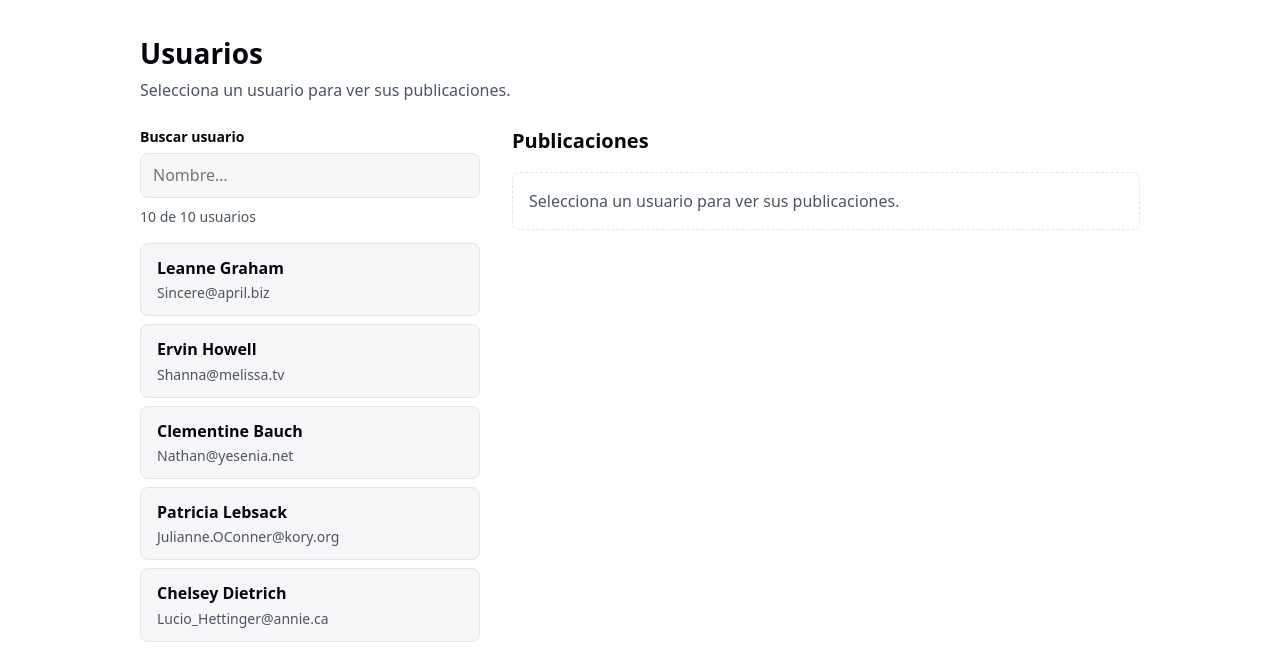
Test case: publicaciones por usuario › cambia de publicaciones al elegir otro usuario
The width and height of the screenshot is (1280, 650).
What coordinates should you click on to do the following:
click the button "Leanne Graham Sincere@april.biz"
I would click on:
 (220, 268)
Its box is [140,243,480,316].
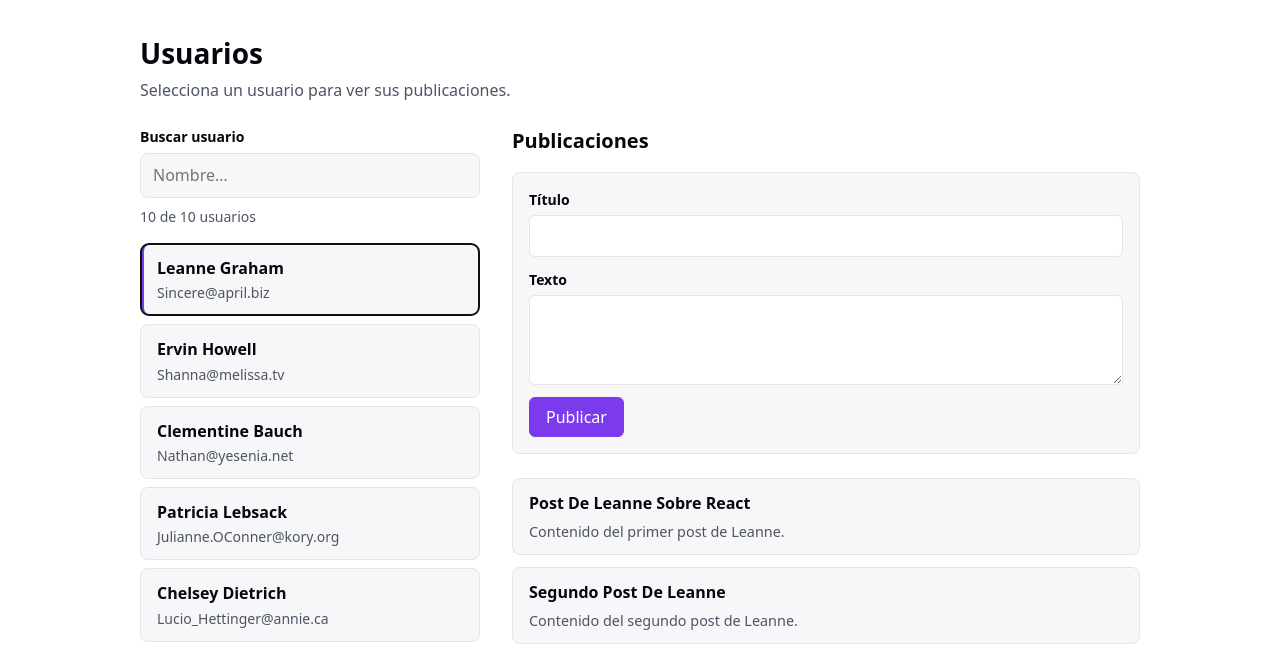
Expected: the heading "Post de Leanne sobre React" is shown, [529,492,750,514]
What coordinates should you click on to do the following:
click the button "Ervin Howell Shanna@melissa.tv"
I would click on:
 (207, 349)
Its box is [140,324,480,398].
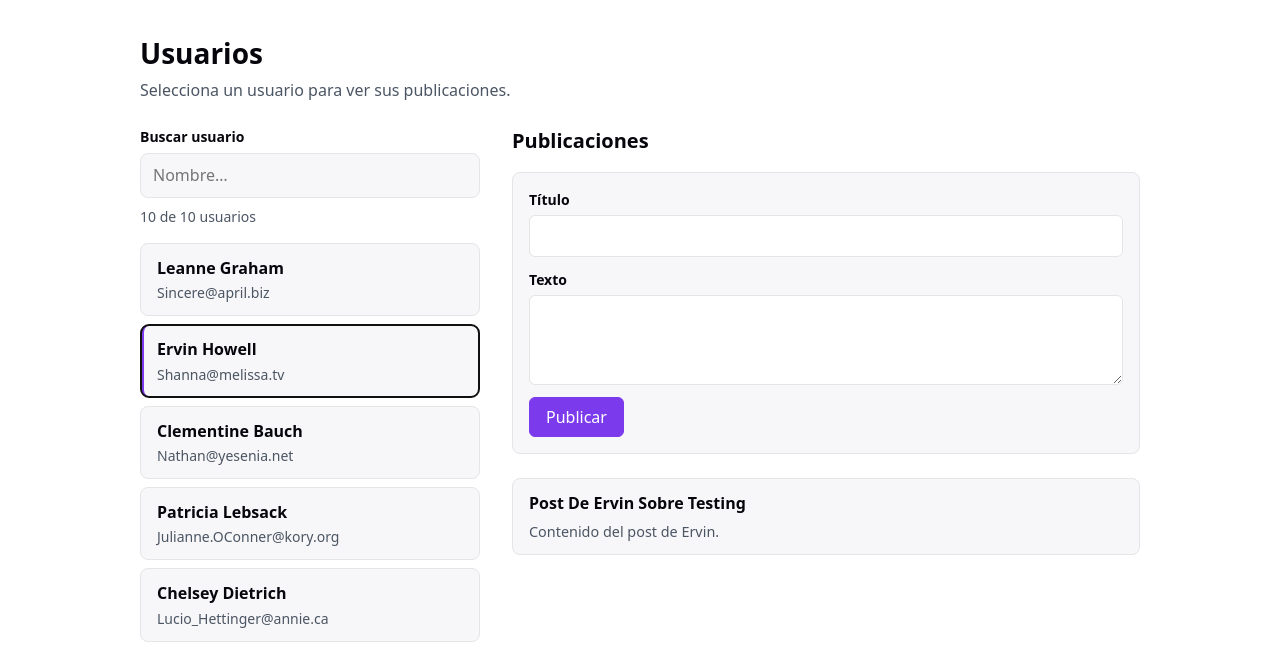
Expected: the heading "Post de Ervin sobre testing" is shown, [529,492,746,514]
Expected: the heading "Post de Leanne sobre React" is gone
